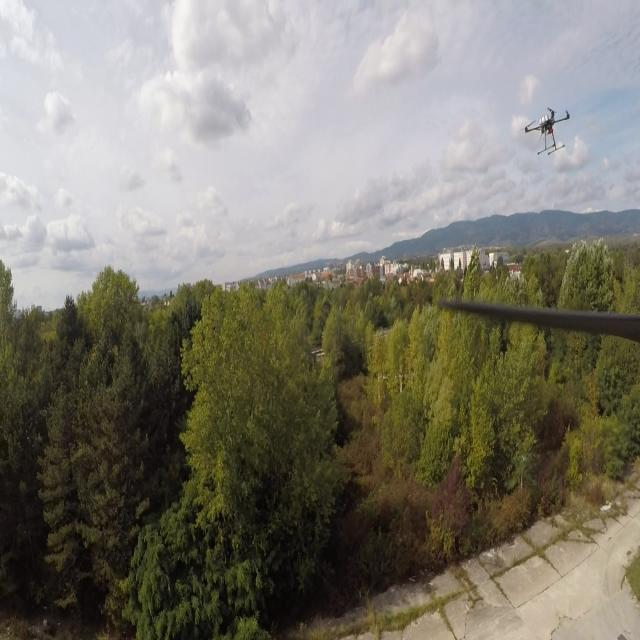UAV: (519, 100, 574, 158)
